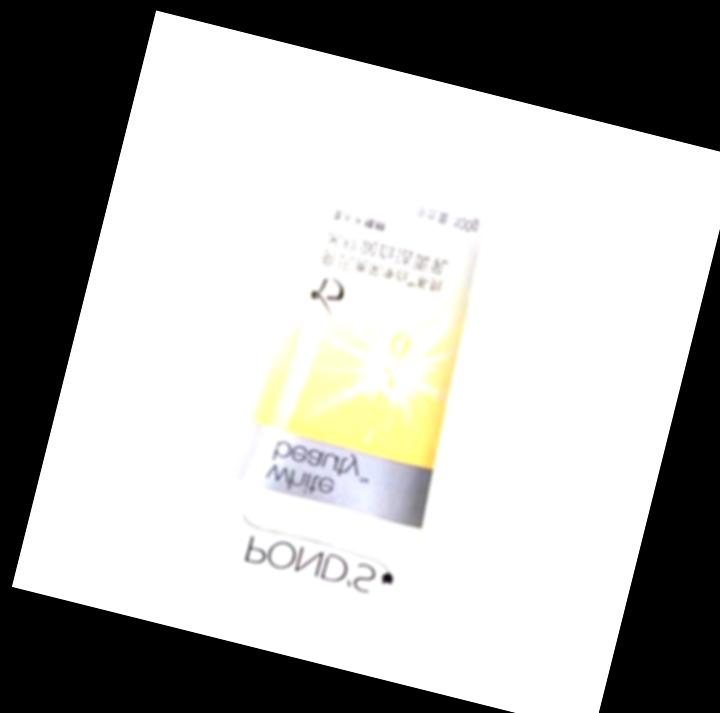cosmetic: (183, 71, 536, 657)
